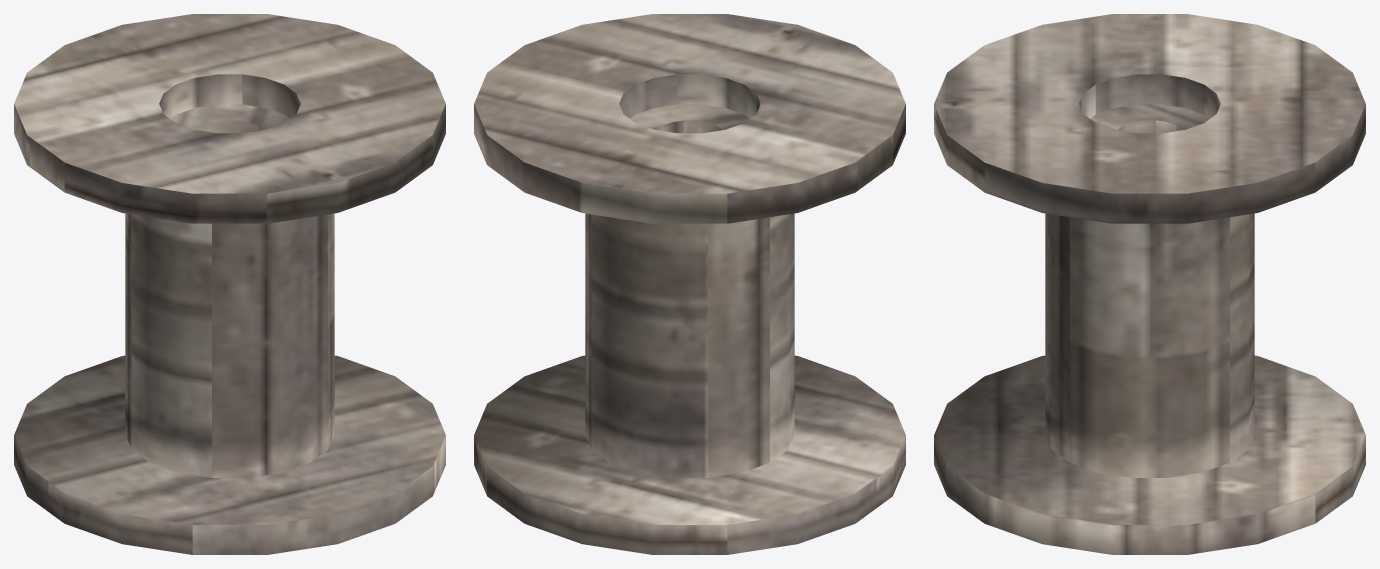
File: rolka.glb
3 views of the same model, side by side, from view 1: azimuth 30°, elevation 25°; view 2: azimuth 150°, elevation 25°; view 3: azimuth 270°, elevation 25° (orthographic).
Parts seen in each view (by area): view 1: Tube001; view 2: Tube001; view 3: Tube001.
Part boxes in pixels (bbox=[...]): Tube001: bbox=[14, 14, 445, 554]; Tube001: bbox=[474, 14, 905, 554]; Tube001: bbox=[934, 14, 1365, 554].
Bounding box in the file's own units: 0.6616 × 0.6202 × 0.6718.
Materials: 1 (1 with a texture image).
